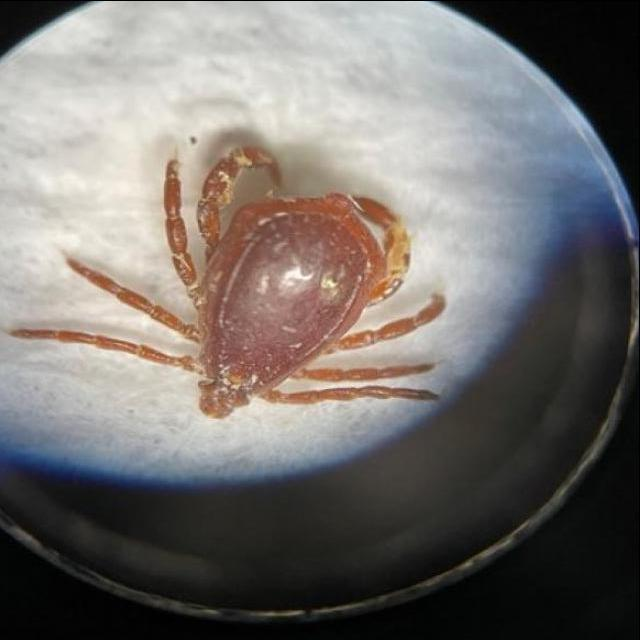Rhipicephalus Sanguineus-M: (12, 143, 476, 416)
